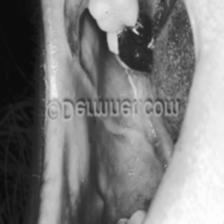Non-Cancerous Skin Condition: (120, 7, 164, 80)
